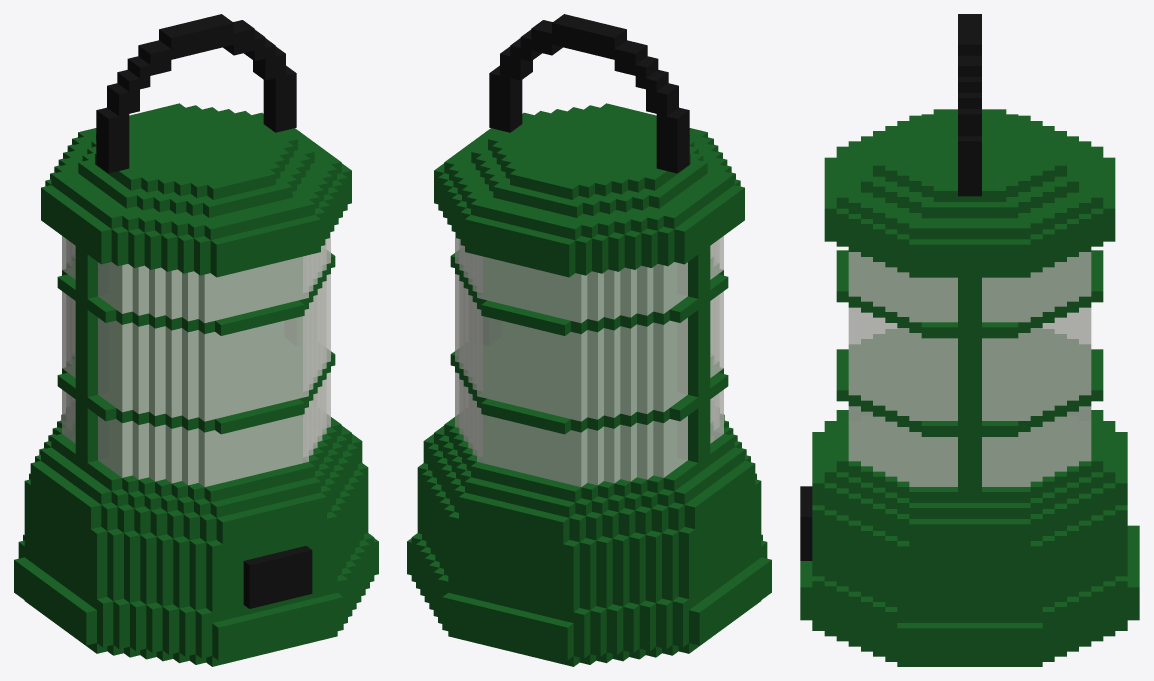
File: electric_lantern.glb
3 views of the same model, side by side, from view 1: azimuth 30°, elevation 25°; view 2: azimuth 150°, elevation 25°; view 3: azimuth 270°, elevation 25° (orthographic).
Visible parts, largest first — view 1: electric_lantern:compound; view 2: electric_lantern:compound; view 3: electric_lantern:compound.
Part boxes in pixels (box(x1,y1,x2,y2)): electric_lantern:compound: box(14, 14, 378, 666); electric_lantern:compound: box(407, 14, 771, 666); electric_lantern:compound: box(800, 14, 1139, 666).
Size of the model in its own units: 0.112 by 0.208 by 0.112.
